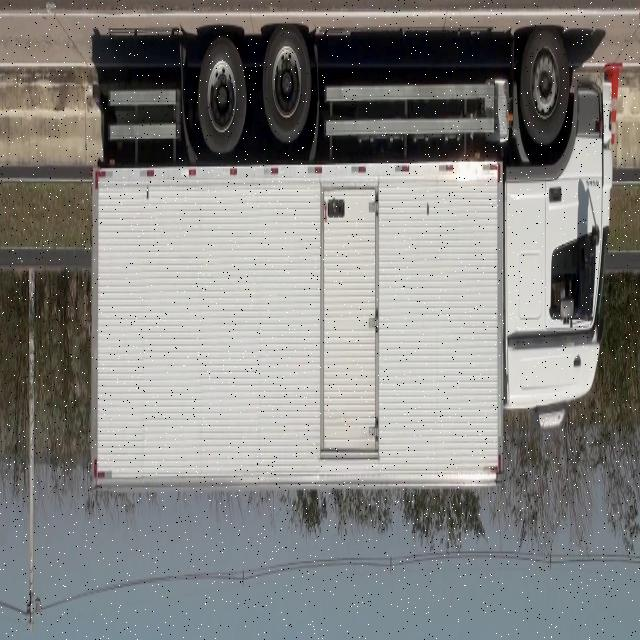-axle: (522, 22, 570, 147), (264, 25, 311, 144), (198, 45, 248, 151)
